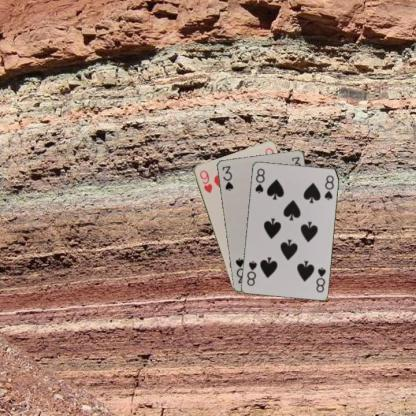3s: (219, 163, 234, 192)
8s: (313, 264, 327, 294), (252, 165, 266, 194)
9h: (197, 168, 213, 194)
